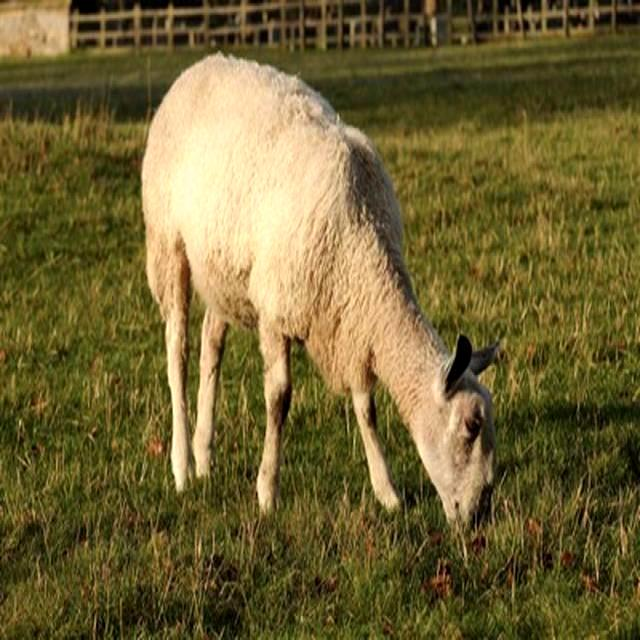sheep: (141, 55, 496, 537)
